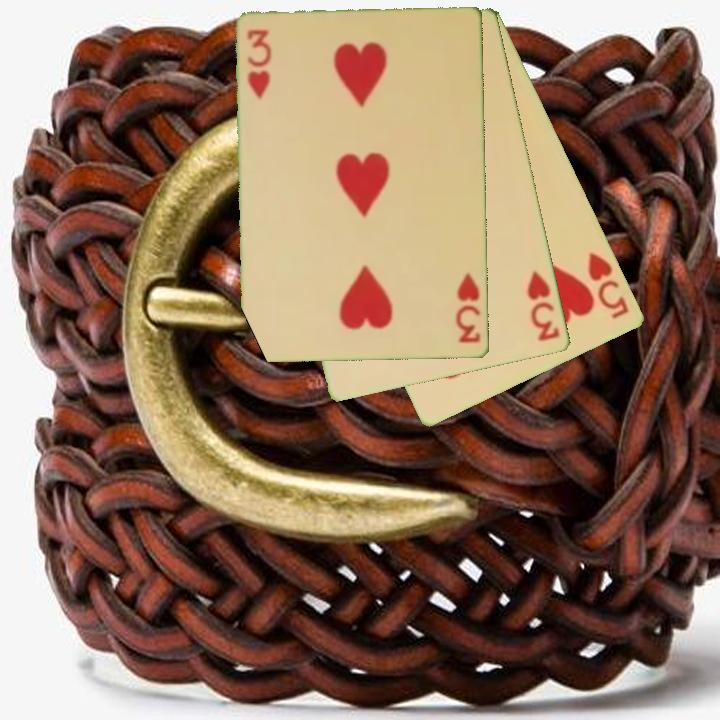3h: (524, 268, 563, 345), (453, 269, 484, 346), (244, 26, 274, 102)
5h: (585, 248, 633, 322)
